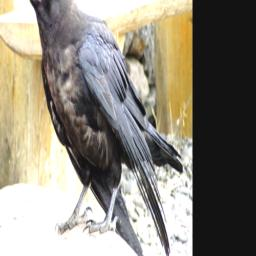Crow: (10, 0, 184, 256)
